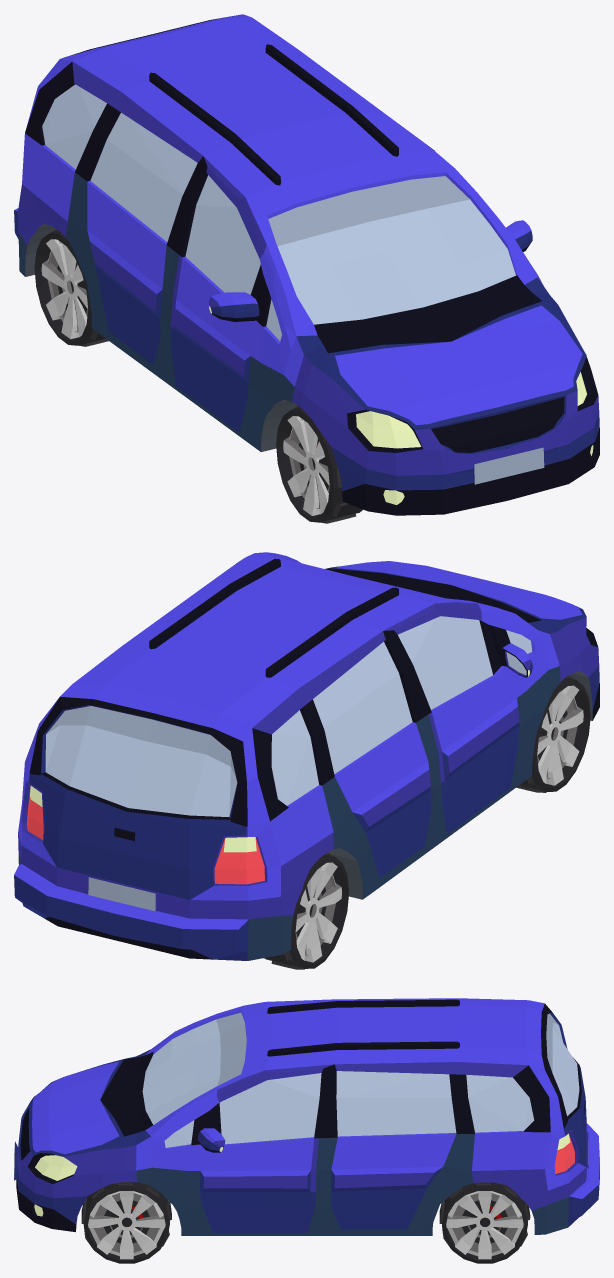
The model's file is Car.glb.
3 views of the same model, one above another, from view 1: azimuth 30°, elevation 25°; view 2: azimuth 150°, elevation 25°; view 3: azimuth 270°, elevation 25° (orthographic). The views are drawn at different scales.
Visible parts, largest first — view 1: CAR_BODY, FRONT_WHEELS, BACK_WHEELS, MIRRORS; view 2: CAR_BODY, BACK_WHEELS, FRONT_WHEELS, MIRRORS; view 3: CAR_BODY, FRONT_WHEELS, BACK_WHEELS, MIRRORS.
Part boxes in pixels (x1,y1,x2,y2): CAR_BODY: [14, 14, 599, 515]; FRONT_WHEELS: [276, 406, 362, 523]; BACK_WHEELS: [34, 229, 108, 346]; MIRRORS: [208, 220, 532, 321]; CAR_BODY: [14, 552, 599, 960]; BACK_WHEELS: [264, 852, 349, 969]; FRONT_WHEELS: [516, 675, 590, 792]; MIRRORS: [501, 643, 532, 677]; CAR_BODY: [14, 998, 599, 1235]; FRONT_WHEELS: [81, 1181, 171, 1263]; BACK_WHEELS: [439, 1182, 530, 1263]; MIRRORS: [198, 1128, 225, 1152].
Size of the model in its own units: 2.23 by 1.79 by 4.79.
